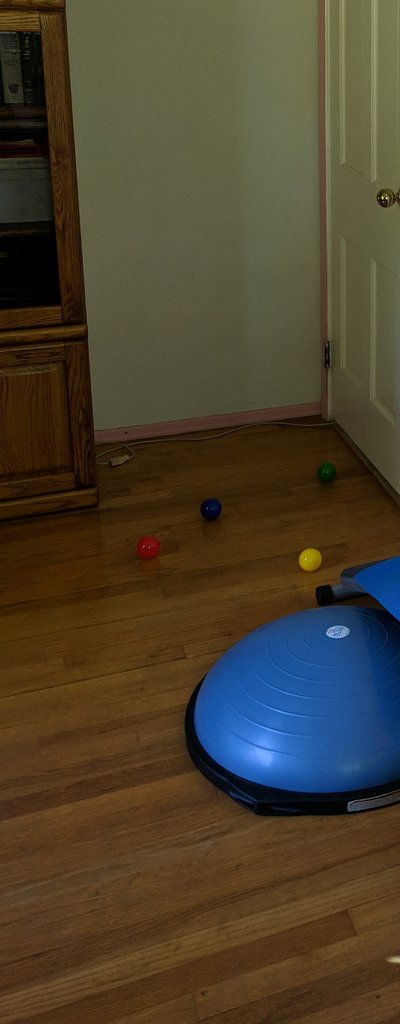ball: (135, 536, 159, 560)
